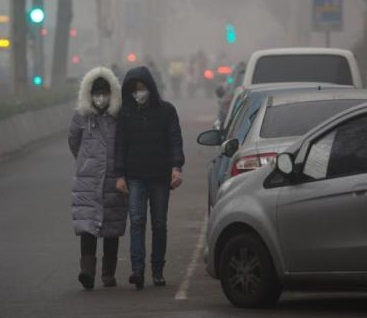person: (113, 62, 186, 293), (66, 66, 127, 294), (145, 57, 167, 99), (184, 56, 201, 98), (167, 58, 183, 100)
